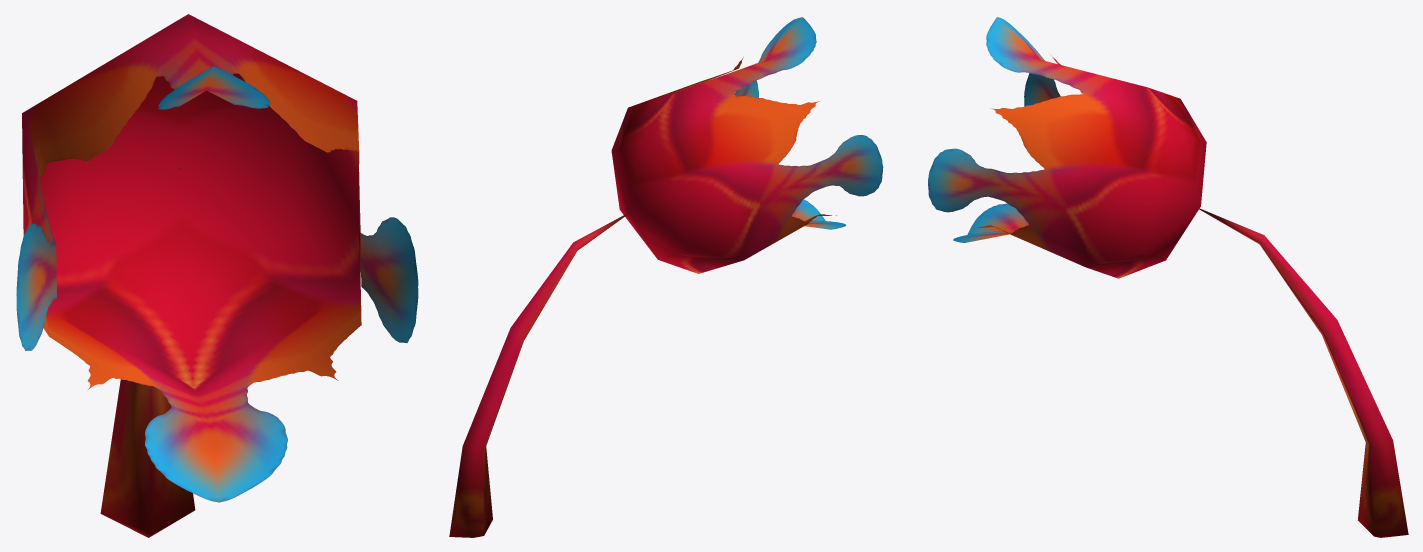
The model's file is Red_Flower_03a.FBX.
3 views of the same model, side by side, from view 1: azimuth 30°, elevation 25°; view 2: azimuth 150°, elevation 25°; view 3: azimuth 270°, elevation 25° (orthographic). The views are drawn at different scales.
Parts seen in each view (by area): view 1: Red_Flower_03a; view 2: Red_Flower_03a; view 3: Red_Flower_03a.
Part boxes in pixels (x1=…): Red_Flower_03a: x1=16, y1=14, x2=418, y2=537; Red_Flower_03a: x1=449, y1=17, x2=883, y2=537; Red_Flower_03a: x1=928, y1=17, x2=1408, y2=537.
Size of the model in its own units: 31.49 by 48.18 by 47.73.
